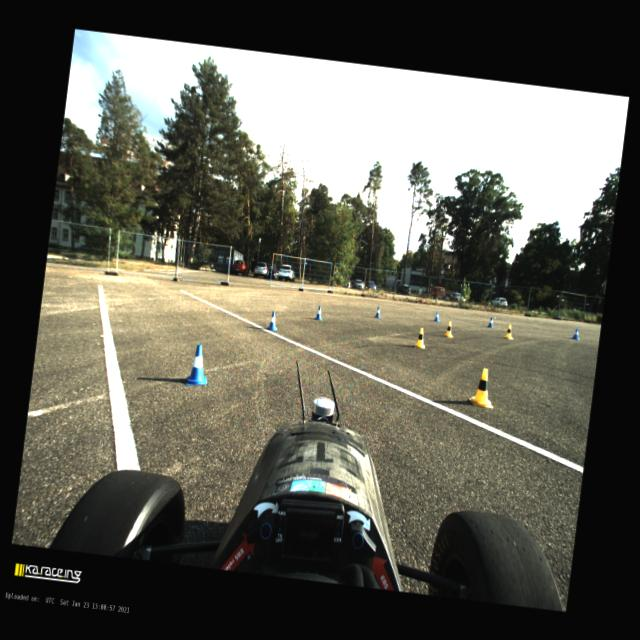blue_cone: (184, 342, 211, 387), (267, 310, 279, 331), (314, 305, 323, 320), (571, 328, 581, 340), (486, 316, 494, 328), (374, 306, 382, 318), (433, 310, 440, 322)
yellow_cone: (467, 364, 497, 410), (412, 326, 428, 349), (443, 321, 455, 338), (504, 324, 514, 339)
